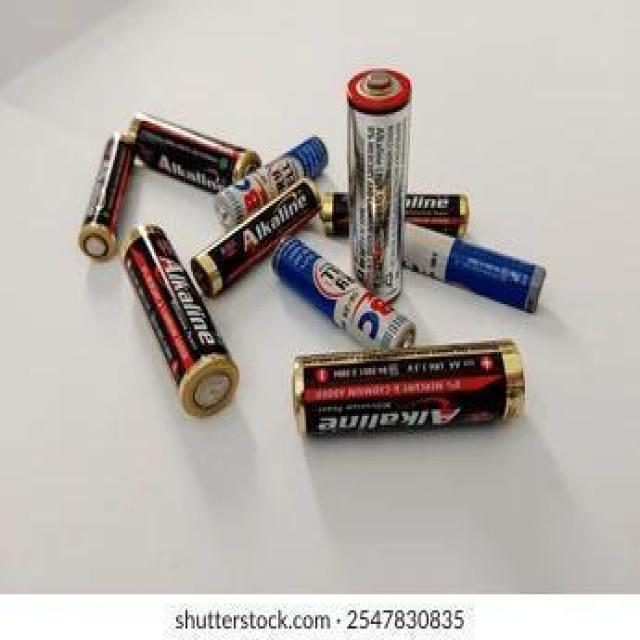AA: (287, 333, 529, 443), (117, 221, 241, 421), (268, 233, 419, 350), (186, 175, 326, 299), (345, 64, 415, 309)
